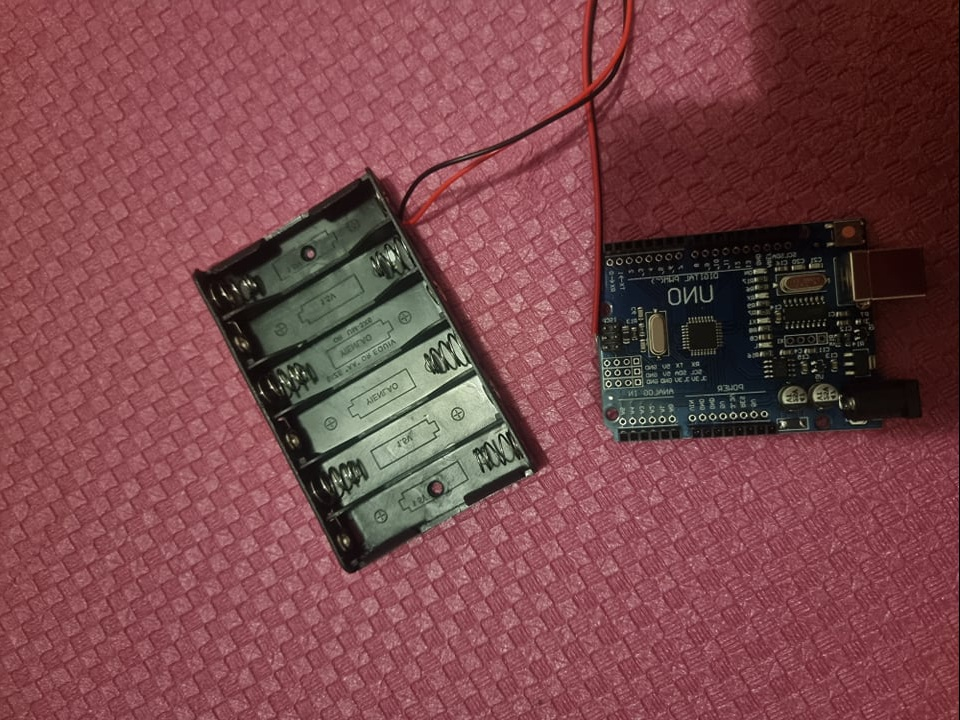BATTERY BOX: (190, 171, 542, 574)
UNO R3: (596, 219, 942, 443)
